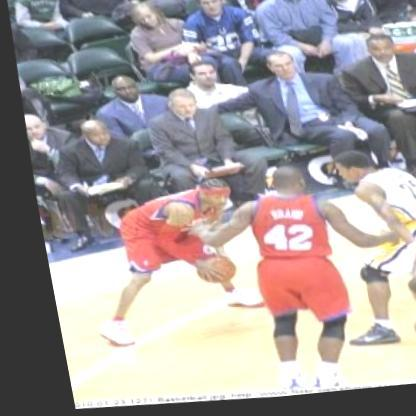basketball: (186, 258, 224, 287)
